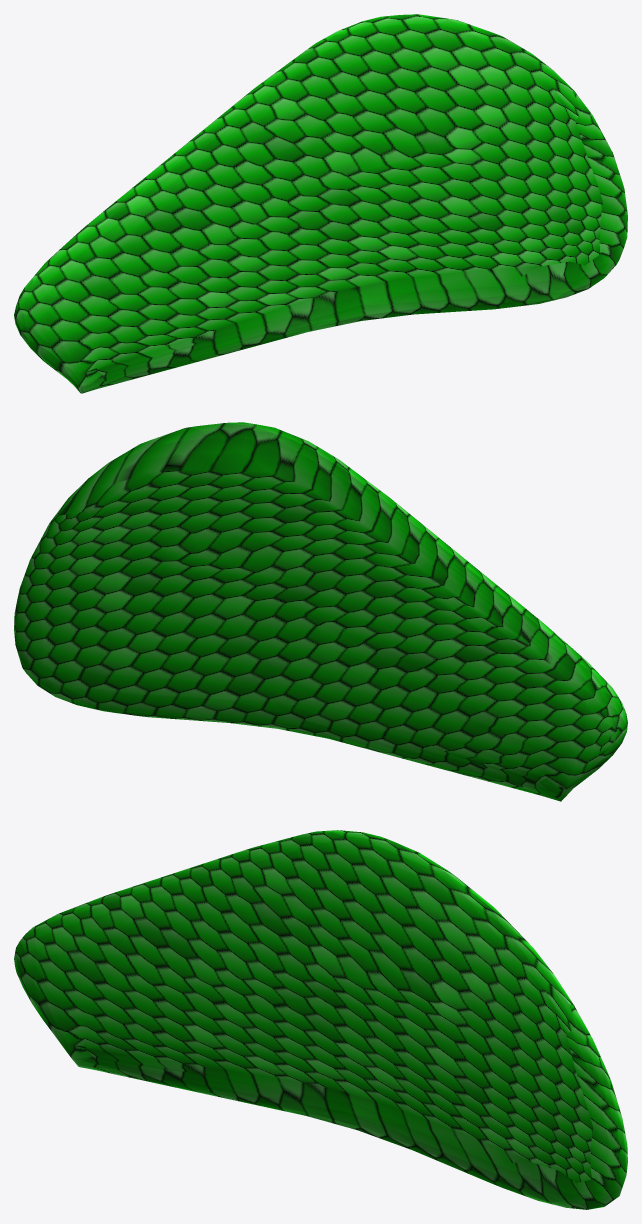
Rendered from Fish5_Fin2_new.dae.
3 renders of one model, top to bottom at view 1: azimuth 30°, elevation 25°; view 2: azimuth 150°, elevation 25°; view 3: azimuth 330°, elevation 25°, orthographic.
Visible parts, largest first — view 1: Cube; view 2: Cube; view 3: Cube.
Part boxes in pixels (box(x1,y1,x2,y2)): Cube: box(14, 14, 627, 393); Cube: box(14, 422, 627, 801); Cube: box(14, 830, 627, 1209).
Size of the model in its own units: 8.39 by 0.3412 by 4.26.
1 material, 1 textured.
